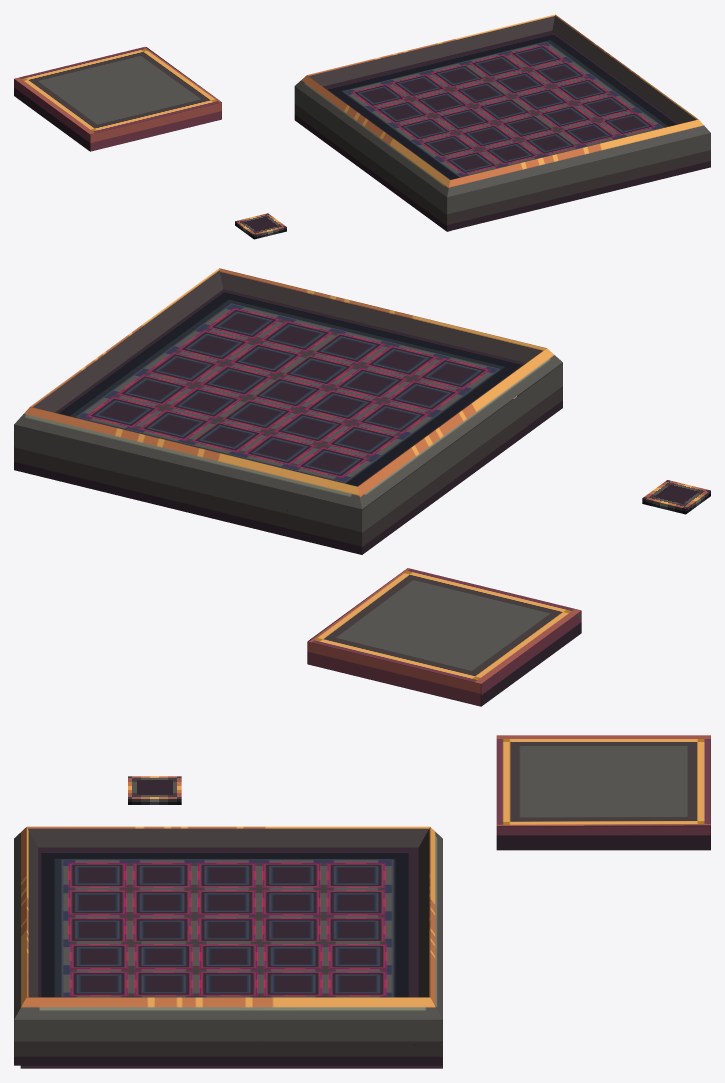
Rendered from tile.fbx.
The picture shows the model from 3 angles, top to bottom: view 1: azimuth 30°, elevation 25°; view 2: azimuth 150°, elevation 25°; view 3: azimuth 270°, elevation 25°; orthographic projection. The views are drawn at different scales.
Parts seen in each view (by area): view 1: container tile, Transform, Atom Tile; view 2: container tile, Transform, Atom Tile; view 3: container tile, Transform, Atom Tile.
Boxes of the visible parts, bbox=[...] form: container tile: bbox=[294, 14, 710, 231]; Transform: bbox=[14, 47, 221, 151]; Atom Tile: bbox=[235, 213, 286, 239]; container tile: bbox=[14, 268, 562, 554]; Transform: bbox=[307, 568, 581, 706]; Atom Tile: bbox=[642, 480, 710, 514]; container tile: bbox=[14, 826, 442, 1068]; Transform: bbox=[496, 735, 710, 850]; Atom Tile: bbox=[128, 776, 181, 804].
Size of the model in its own units: 681 by 67.68 by 650.
3 materials, 3 textured.
